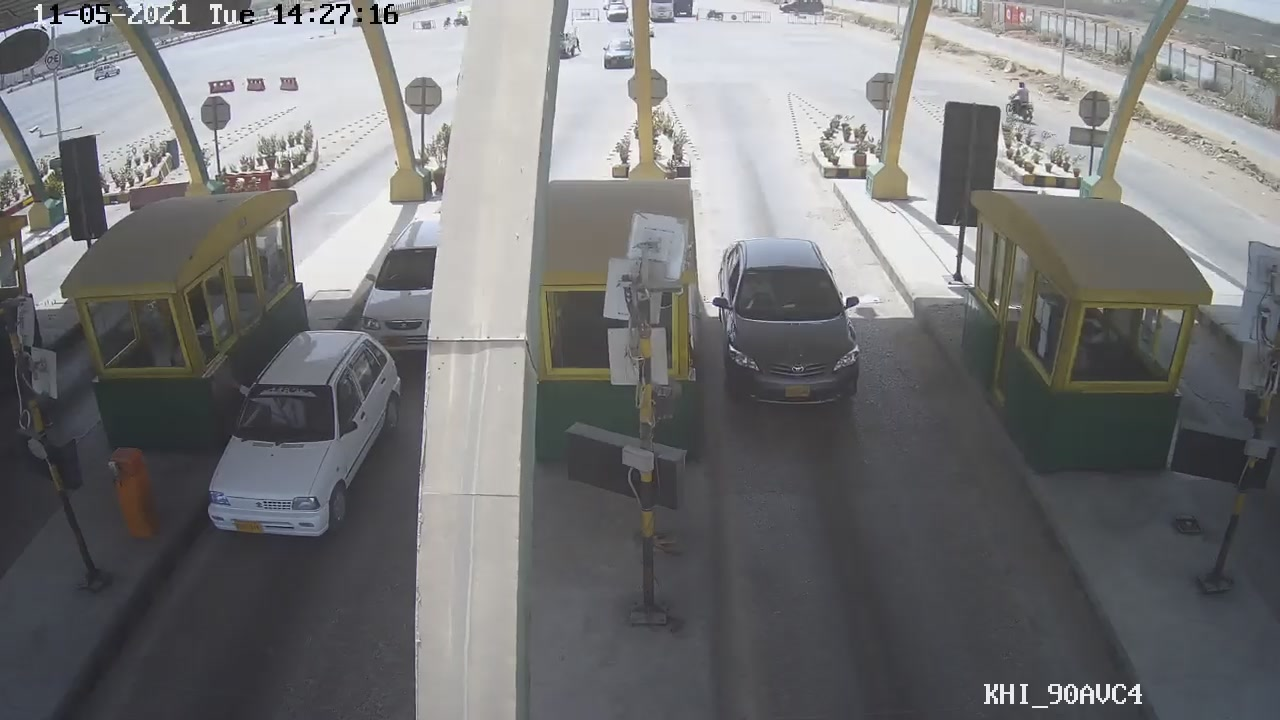F1: (710, 234, 867, 409)
